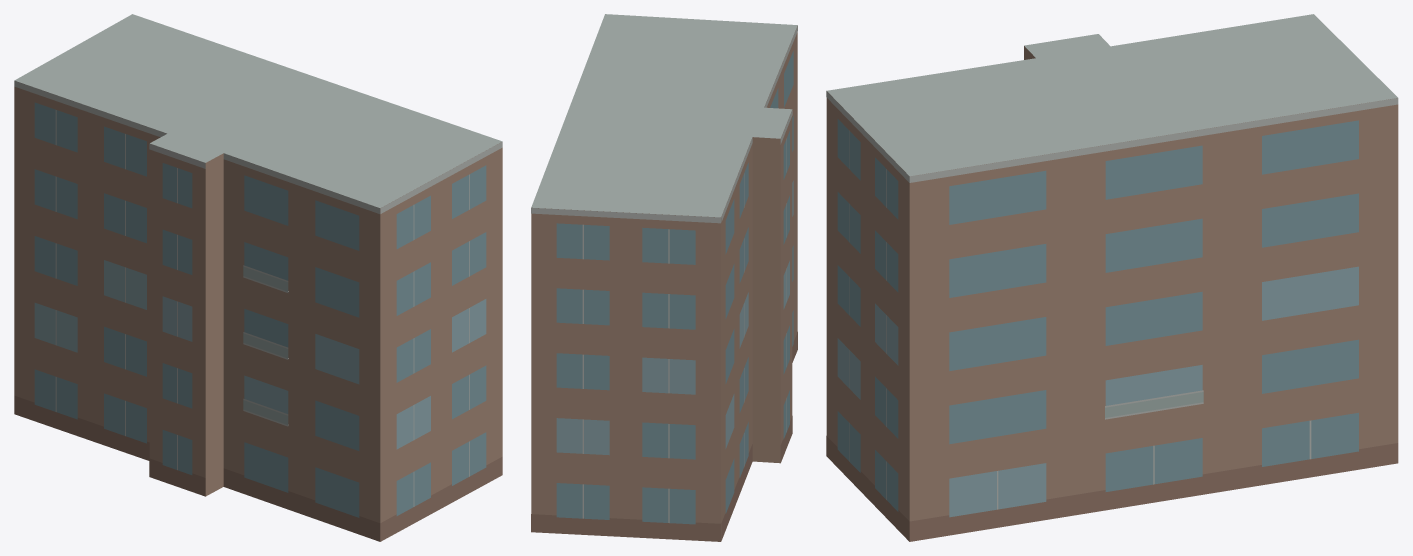
File: survey-upis-32971590.glb
3 renders of one model, left to right at view 1: azimuth 30°, elevation 25°; view 2: azimuth 150°, elevation 25°; view 3: azimuth 270°, elevation 25°, orthographic. The views are drawn at different scales.
Visible parts, largest first — view 1: survey-upis-32971590.tmp; view 2: survey-upis-32971590.tmp; view 3: survey-upis-32971590.tmp.
Boxes of the visible parts, x1=… form: survey-upis-32971590.tmp: x1=14, y1=14, x2=502, y2=541; survey-upis-32971590.tmp: x1=531, y1=14, x2=797, y2=541; survey-upis-32971590.tmp: x1=826, y1=14, x2=1398, y2=541.
Size of the model in its own units: 12.83 by 13.45 by 19.08.
